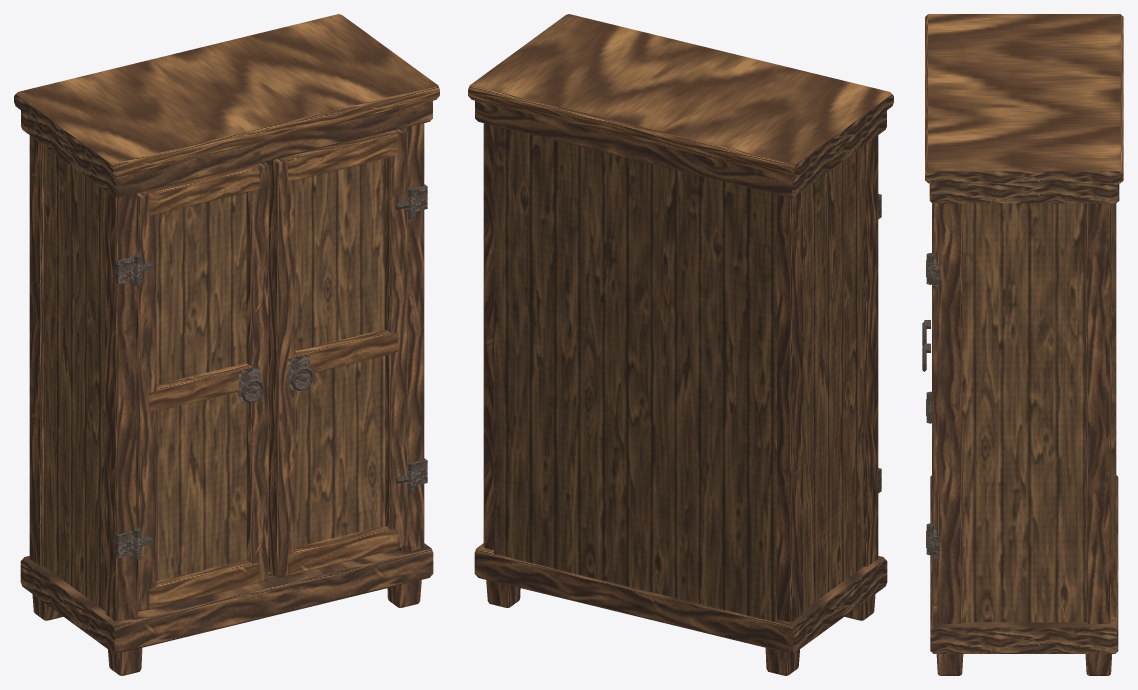
The model's file is Armario.glb.
The picture shows the model from 3 angles, left to right: view 1: azimuth 30°, elevation 25°; view 2: azimuth 150°, elevation 25°; view 3: azimuth 270°, elevation 25°; orthographic projection.
Parts seen in each view (by area): view 1: Porta direita, Porta esquerda, Cornija, Montantes, Laterais, Rodapé, Dobradiças fixas, Pés, Ferragens esquerda, Ferragens direita; view 2: Fundo, Cornija, Laterais, Montantes, Rodapé, Pés; view 3: Laterais, Cornija, Montantes, Rodapé, Fundo, Porta direita, Pés, Dobradiças fixas, Ferragens direita.
Boxes of the visible parts, left/top/right/bottom form: Porta direita: left=268, top=129, right=407, bottom=577; Porta esquerda: left=136, top=162, right=268, bottom=611; Cornija: left=14, top=14, right=439, bottom=197; Montantes: left=29, top=123, right=424, bottom=621; Laterais: left=44, top=146, right=104, bottom=610; Rodapé: left=20, top=543, right=433, bottom=653; Dobradiças fixas: left=115, top=184, right=427, bottom=560; Pés: left=32, top=580, right=421, bottom=675; Ferragens esquerda: left=133, top=261, right=264, bottom=553; Ferragens direita: left=288, top=194, right=415, bottom=486; Fundo: left=494, top=125, right=776, bottom=621; Cornija: left=468, top=14, right=893, bottom=197; Laterais: left=803, top=146, right=863, bottom=610; Montantes: left=483, top=123, right=878, bottom=621; Rodapé: left=474, top=543, right=887, bottom=653; Pés: left=486, top=580, right=875, bottom=675; Laterais: left=962, top=203, right=1086, bottom=622; Cornija: left=925, top=14, right=1123, bottom=203; Montantes: left=937, top=203, right=1111, bottom=623; Rodapé: left=930, top=475, right=1118, bottom=653; Fundo: left=1111, top=203, right=1116, bottom=617; Porta direita: left=932, top=203, right=937, bottom=606; Pés: left=936, top=654, right=1111, bottom=675; Dobradiças fixas: left=926, top=253, right=939, bottom=558; Ferragens direita: left=922, top=260, right=933, bottom=548.
Size of the model in its own units: 1.06 by 1.62 by 0.577.
6 materials, 6 textured.
